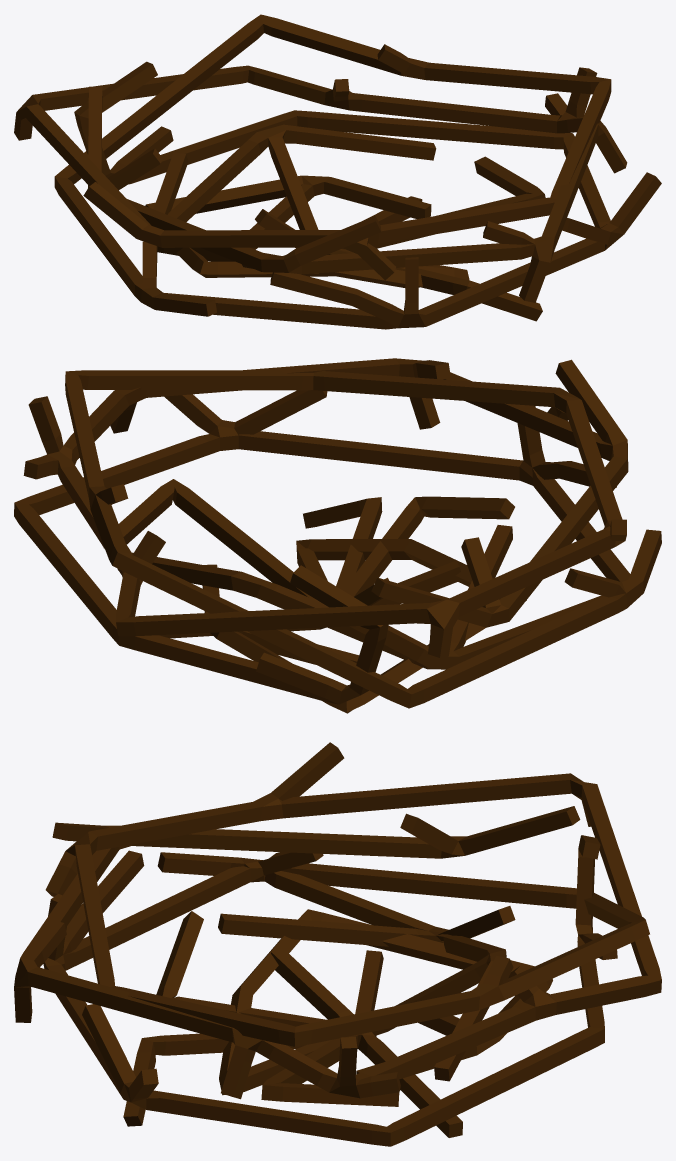
File: nest.fbx
3 views of the same model, one above another, from view 1: azimuth 30°, elevation 25°; view 2: azimuth 150°, elevation 25°; view 3: azimuth 270°, elevation 25° (orthographic). The views are drawn at different scales.
Visible parts, largest first — view 1: Nest; view 2: Nest; view 3: Nest.
Boxes of the visible parts, x1,y1,x2,y2 form: Nest: (14, 14, 661, 329); Nest: (14, 358, 661, 713); Nest: (14, 742, 661, 1146).
Size of the model in its own units: 164 by 51.75 by 155.
